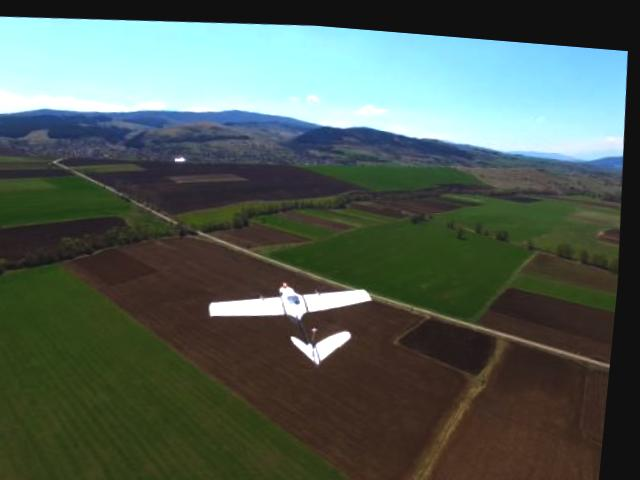uav: (201, 254, 392, 376)
